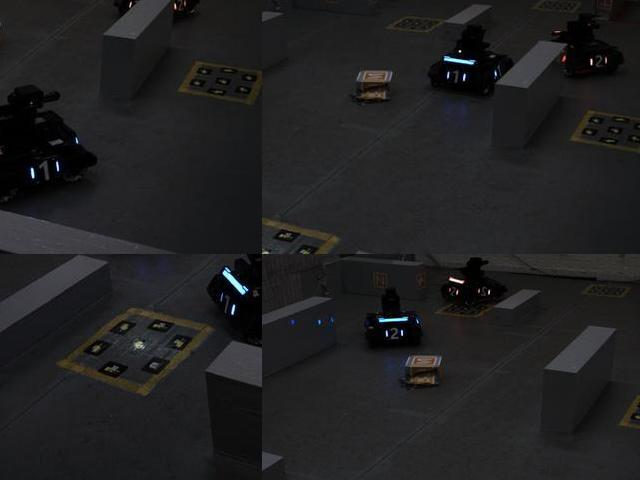armor: (24, 155, 62, 185), (214, 284, 243, 323), (442, 64, 470, 88), (589, 49, 611, 72), (381, 325, 407, 343), (170, 0, 191, 15), (475, 284, 496, 298), (445, 283, 461, 301)
